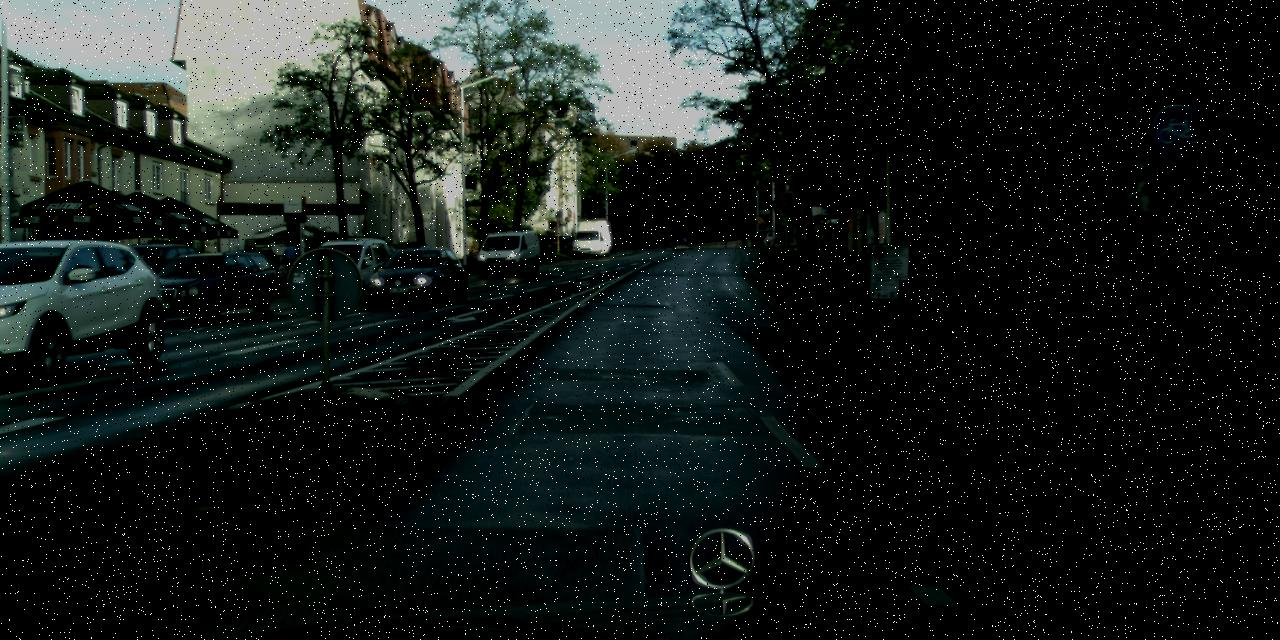ped: (282, 240, 300, 285)
